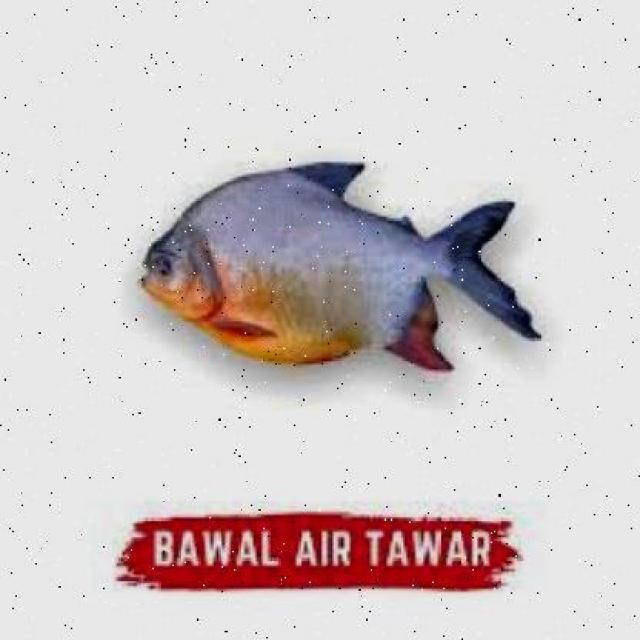ikan-pacu: (137, 159, 531, 367)
